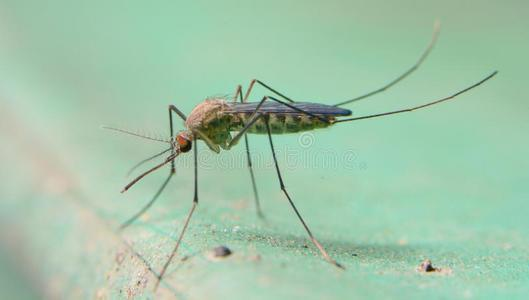Cecidomyiidae: (101, 12, 498, 293)
